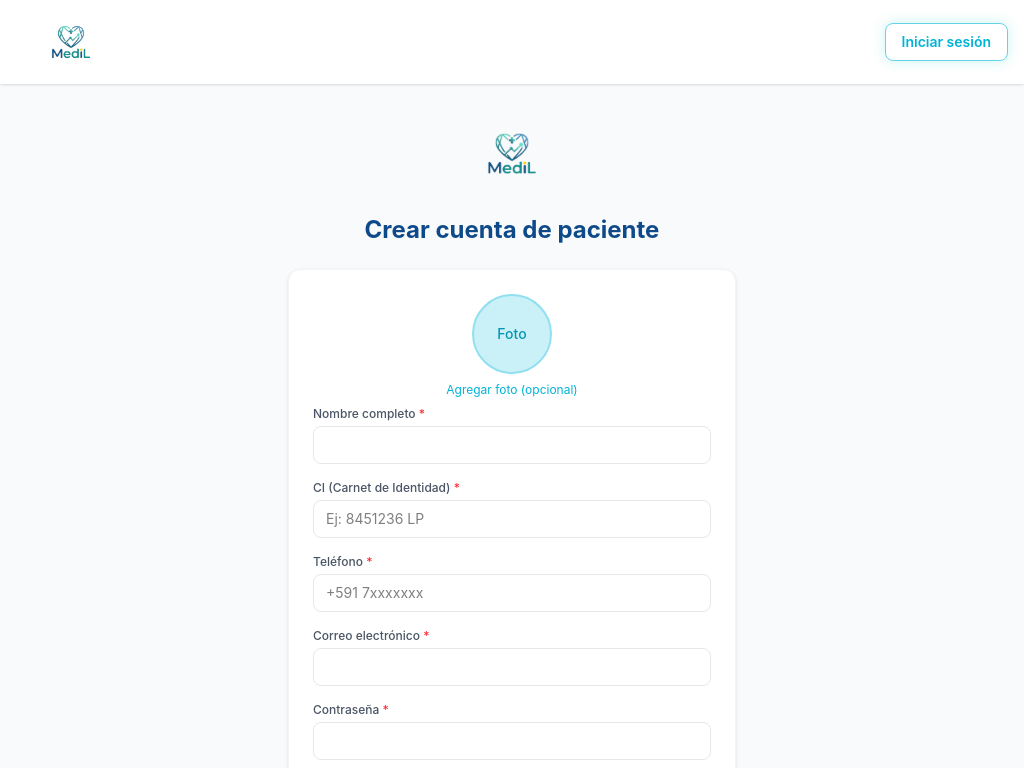
RegisterPage › muestra error cuando las contraseñas no coinciden
The image size is (1024, 768).
Note: name, phone, email
Type "Ana García" into the field below "Nombre completo" at (512, 445), box [313,426,711,464]
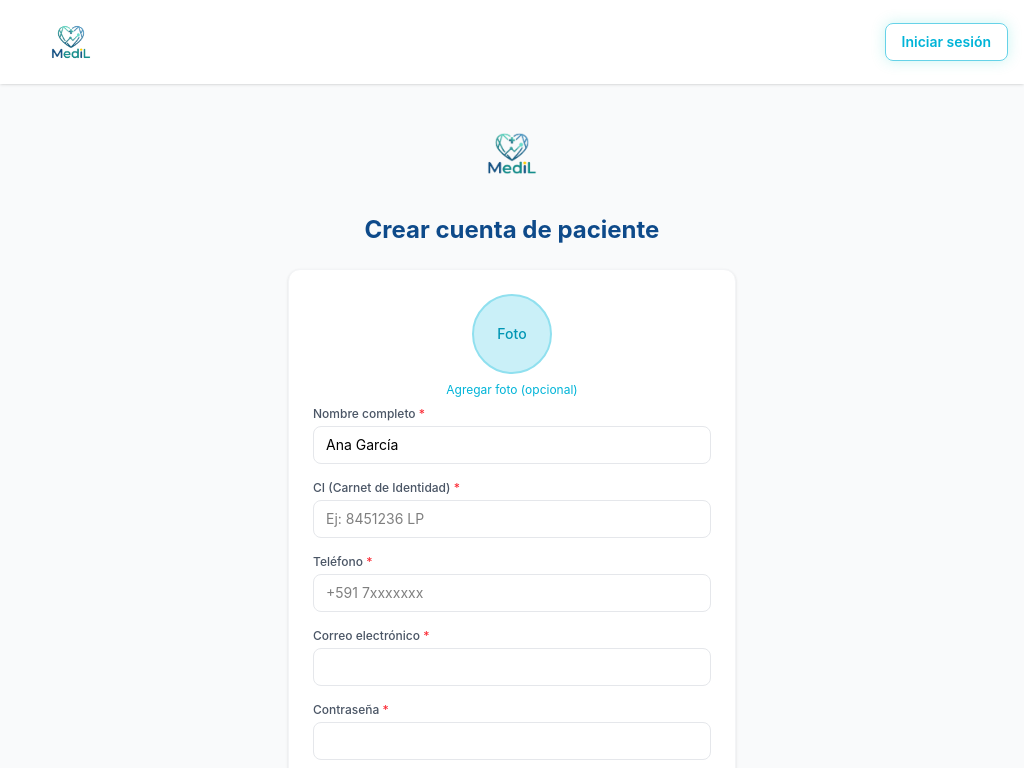
Type "+591 70001234" into the field with placeholder "Ej: 8451236 LP" at (512, 519), box [313,500,711,538]
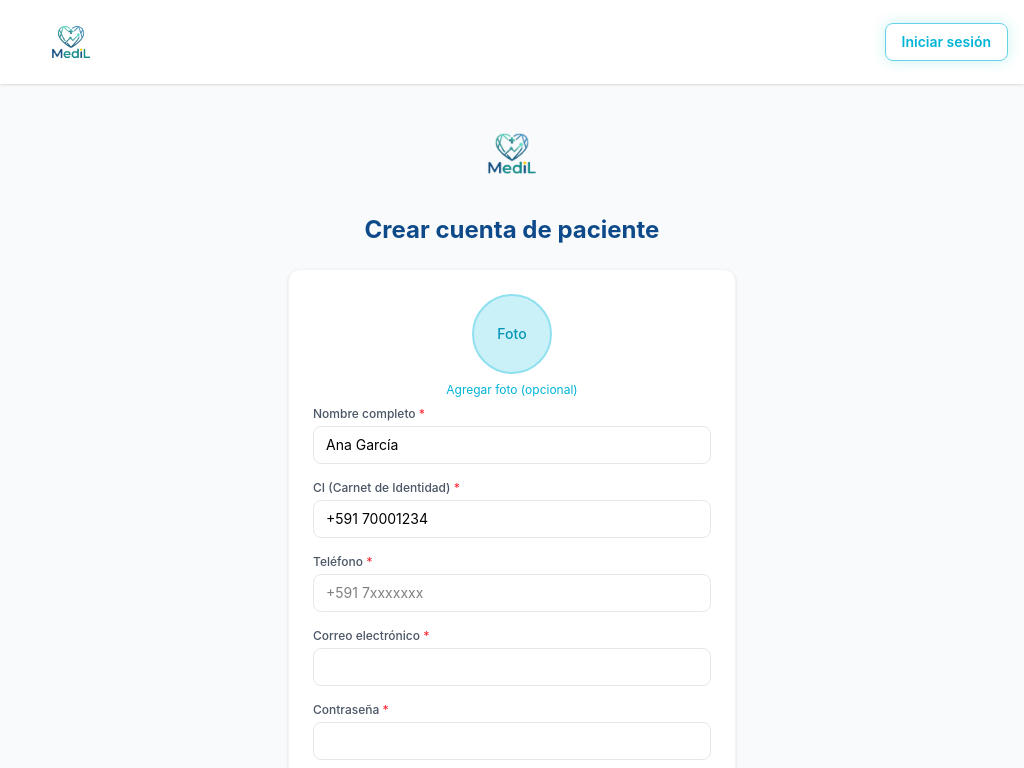
Type "ana@example.com" into the field with placeholder "+591 7xxxxxxx" at (512, 593), box [313,574,711,612]
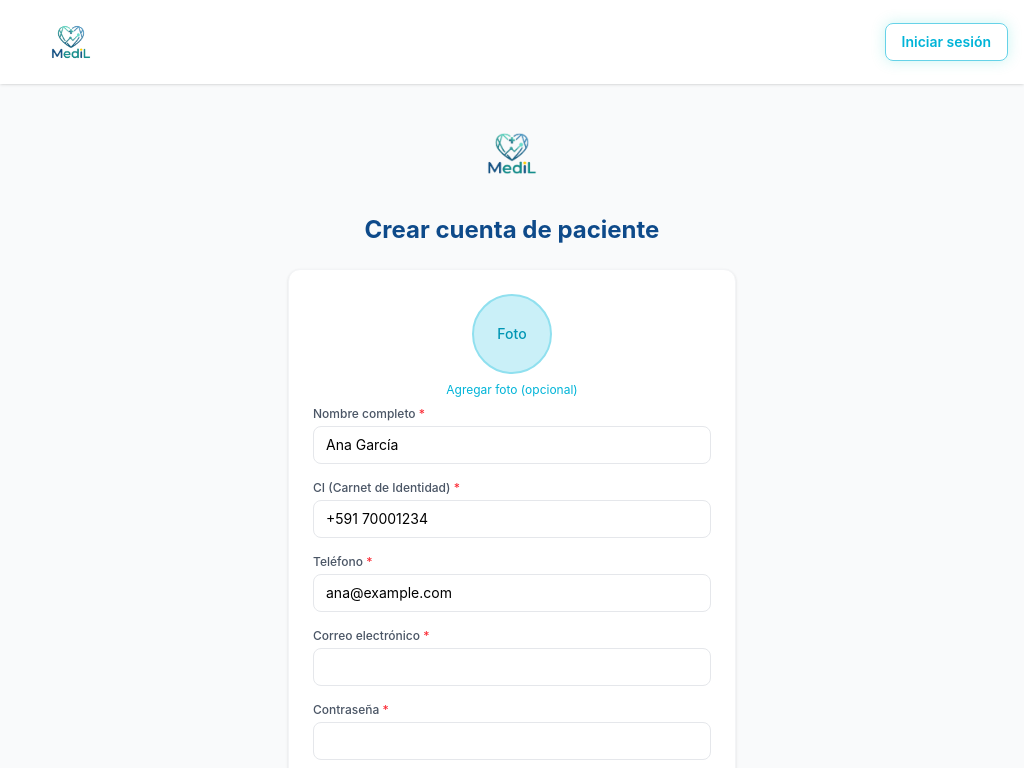
Type "pass123" into the password field at (512, 741), box [313,722,711,760]
(page scrolled)
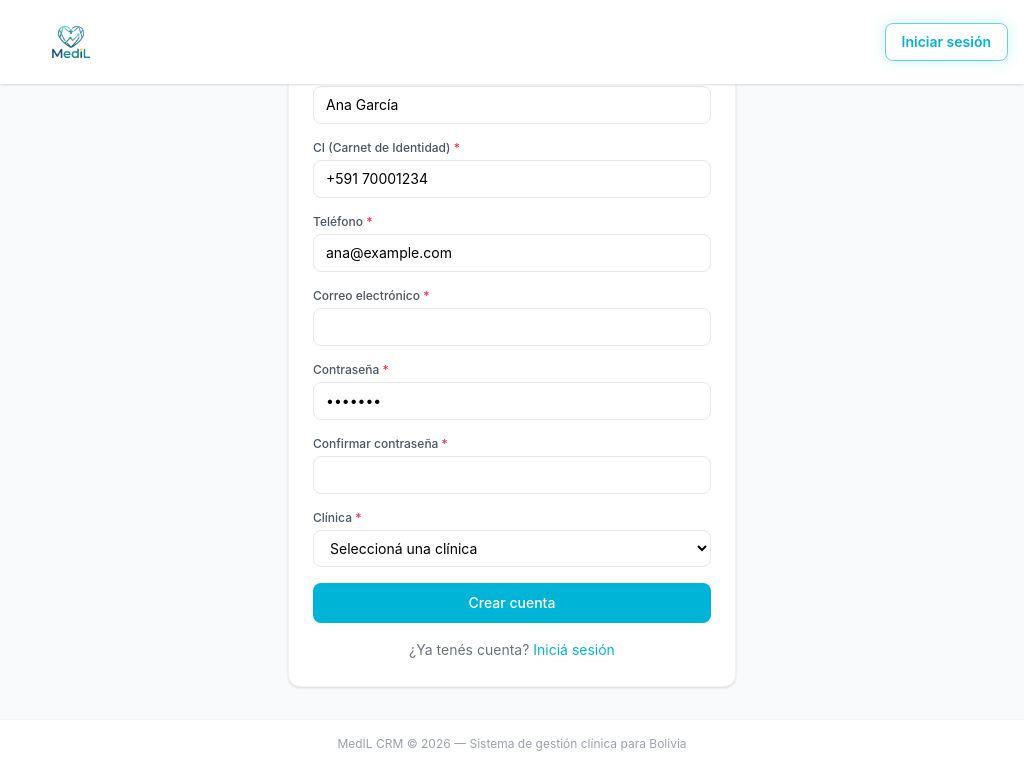
Type "otraclave" into the password field below "Confirmar contraseña" at (512, 475), box [313,456,711,494]
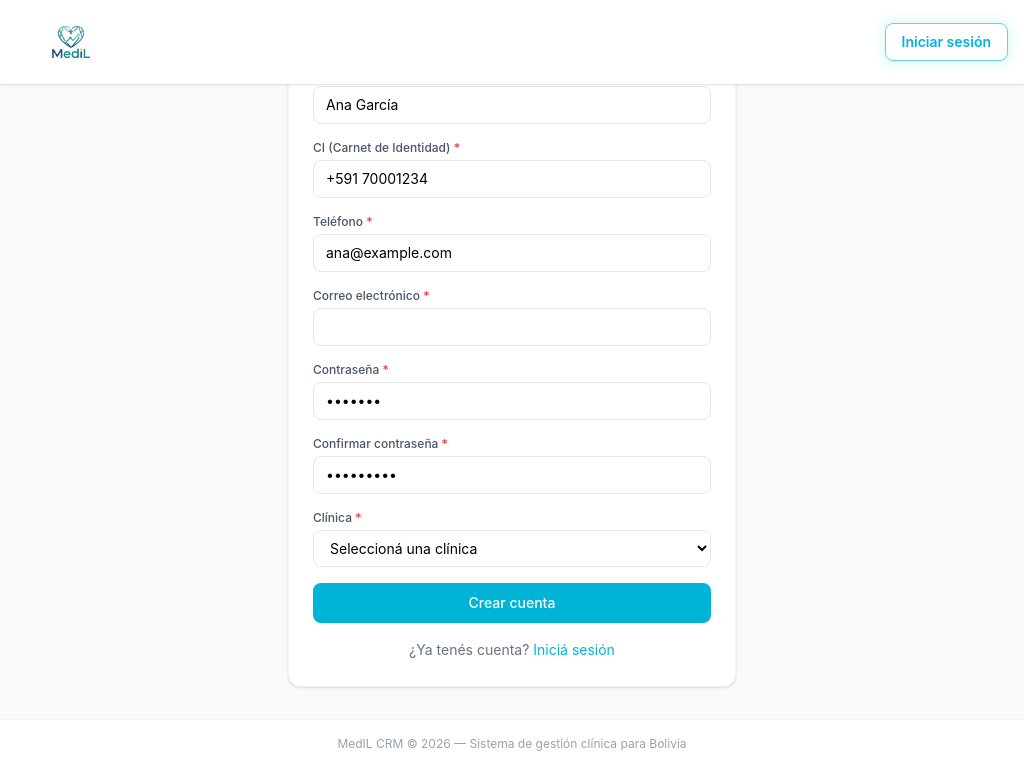
Click the button "Crear cuenta" at (512, 603), box [313,583,711,623]
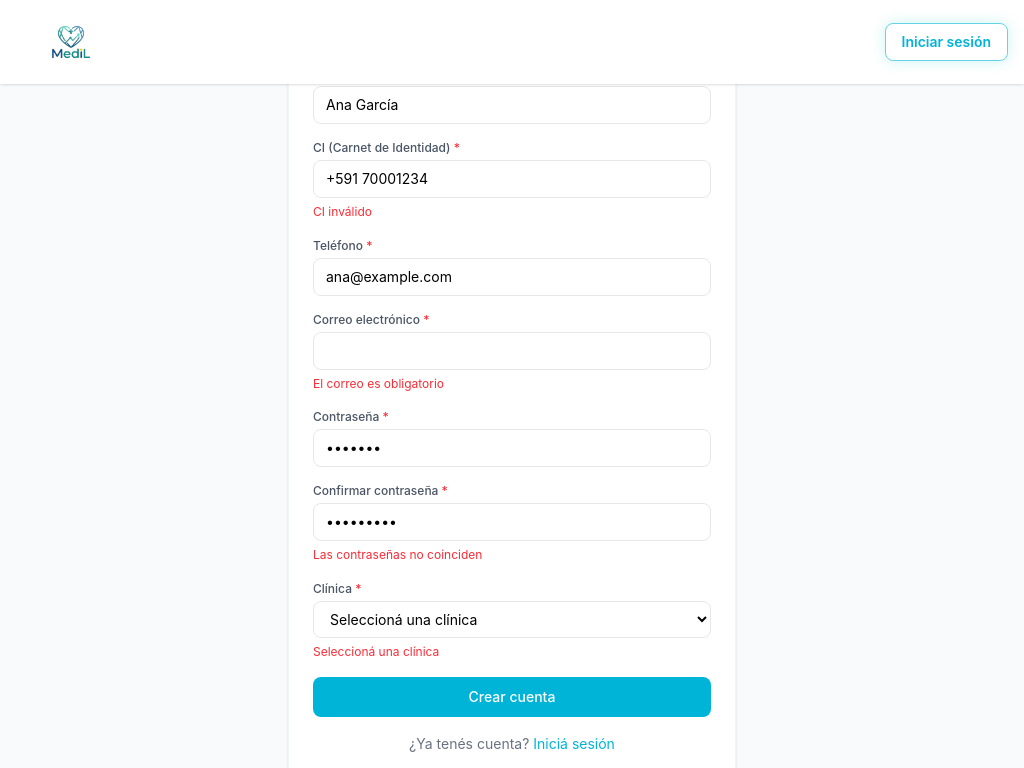
Result: the text "Las contraseñas no coinciden" is shown at [313,547,482,562]
